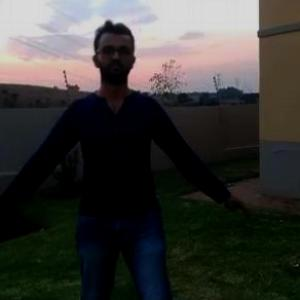land: (1, 17, 265, 292)
